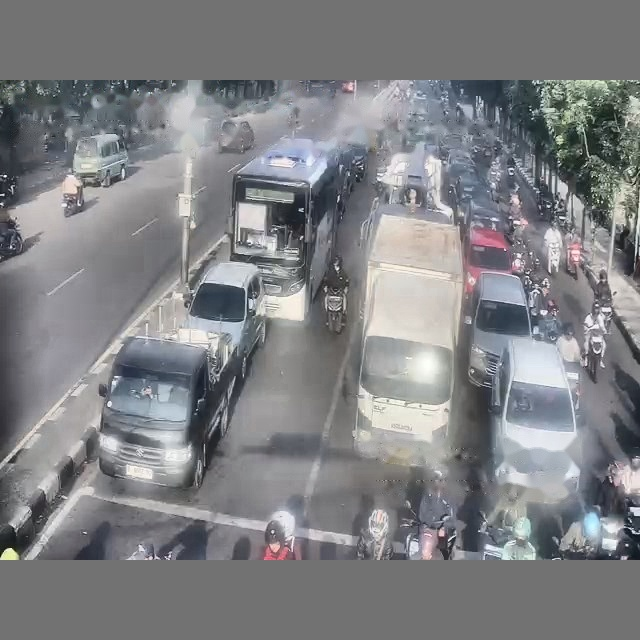Bis: (227, 138, 339, 321)
Mobil: (217, 118, 254, 152)
Motor: (400, 502, 456, 559), (478, 513, 510, 559), (324, 285, 347, 333), (0, 218, 23, 259), (586, 328, 603, 383), (566, 241, 581, 279), (598, 298, 612, 334), (61, 194, 81, 217), (547, 242, 560, 274)
Truk: (352, 209, 463, 465)
